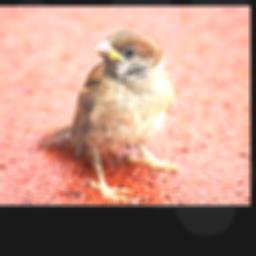Sparrow: (37, 28, 184, 202)
